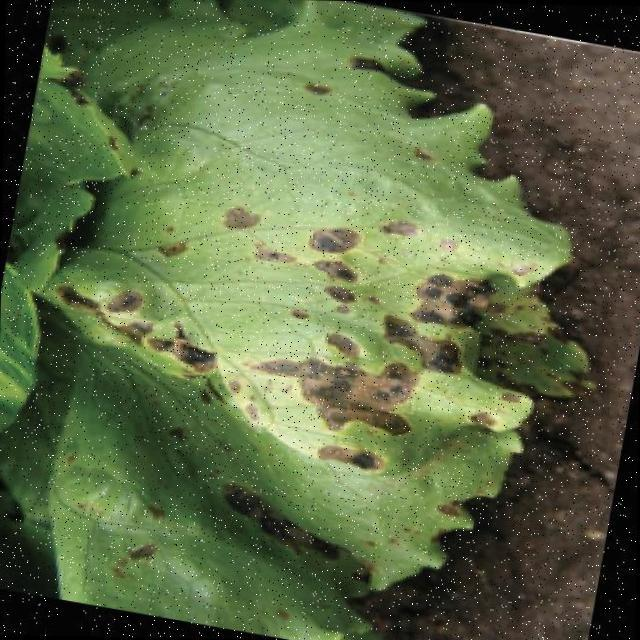Bacterial: (53, 139, 546, 456)
